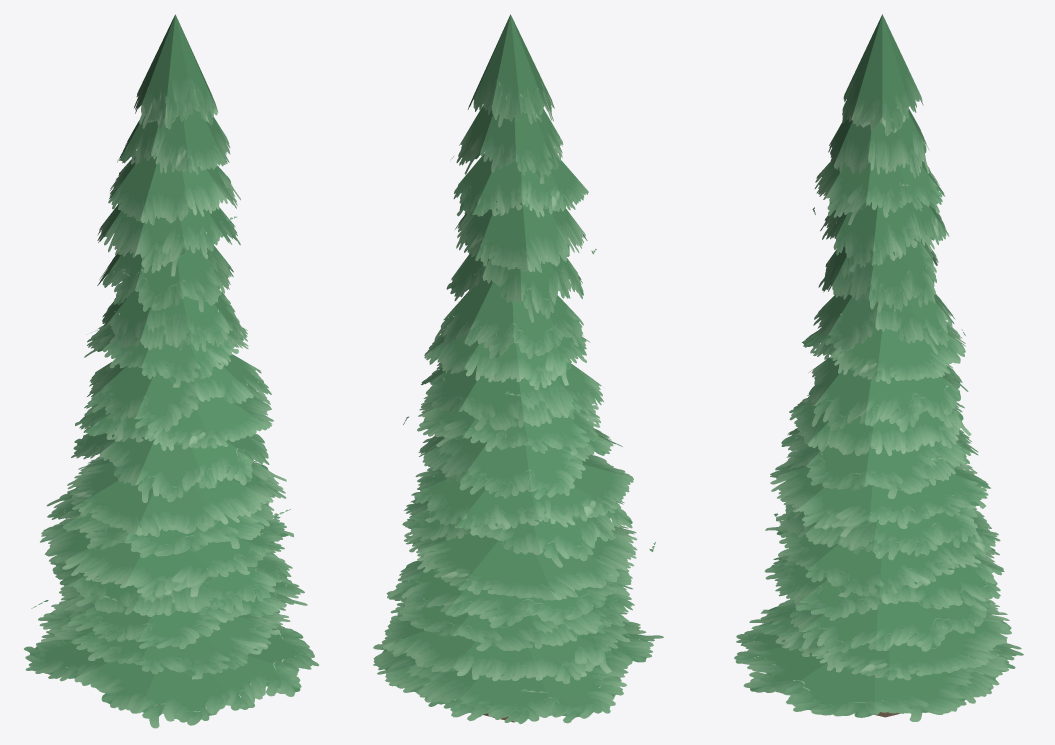
File: pinetree 1.FBX
The picture shows the model from 3 angles, left to right: view 1: azimuth 30°, elevation 25°; view 2: azimuth 150°, elevation 25°; view 3: azimuth 270°, elevation 25°; orthographic projection.
Visible parts, largest first — view 1: Cylinder001; view 2: Cylinder001; view 3: Cylinder001.
Part boxes in pixels (x1,y1,x2,y2): Cylinder001: (24, 14, 318, 728); Cylinder001: (373, 14, 663, 724); Cylinder001: (734, 14, 1023, 721).
Bounding box in the file's own units: 37.16 × 84.66 × 37.16.
Materials: 1 (1 with a texture image).
